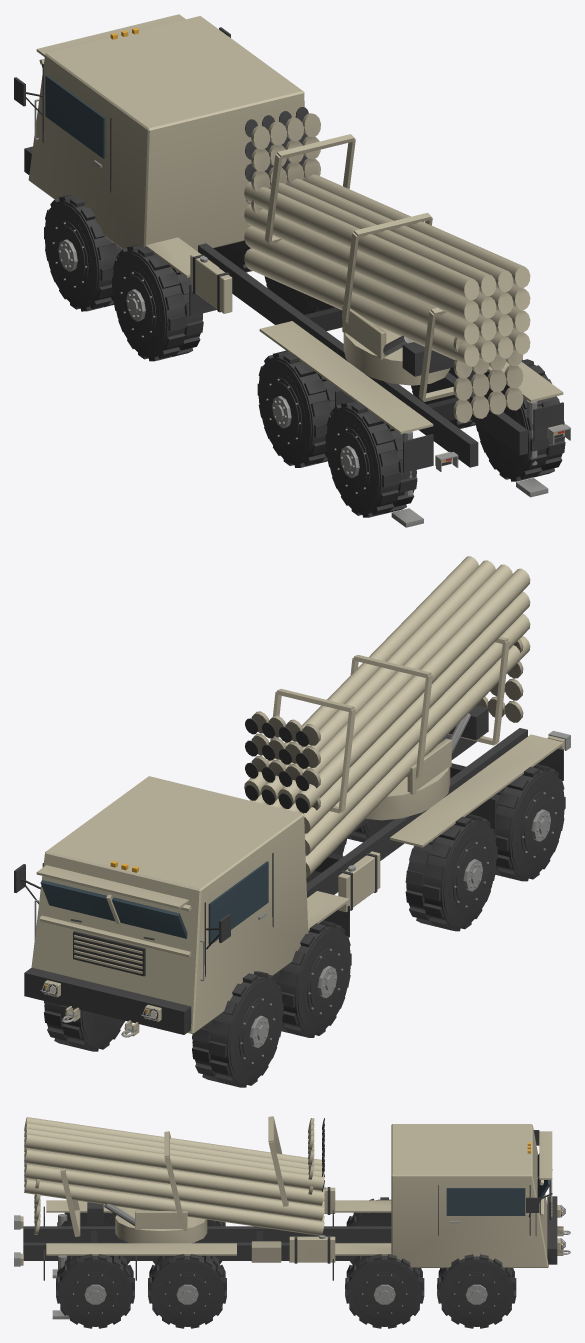
Rendered from rus_mlrs_urag.glb.
3 views of the same model, one above another, from view 1: azimuth 30°, elevation 25°; view 2: azimuth 150°, elevation 25°; view 3: azimuth 270°, elevation 25° (orthographic). The views are drawn at different scales.
Parts seen in each view (by area): view 1: body, barrel, wheel_2, wheel_6, wheel_4, wheel_0, turret, wheel_7, wheel_3; view 2: body, barrel, wheel_4, wheel_0, wheel_6, wheel_2, turret, wheel_1; view 3: body, barrel, wheel_5, wheel_7, wheel_3, wheel_1, turret, wheel_2, wheel_6.
Part boxes in pixels (x1,y1,x2,y2): body: [14, 14, 570, 527]; barrel: [244, 107, 530, 422]; wheel_2: [112, 245, 203, 361]; wheel_6: [325, 400, 417, 517]; wheel_4: [257, 350, 339, 467]; wheel_0: [44, 195, 122, 311]; turret: [342, 305, 450, 385]; wheel_7: [475, 359, 565, 481]; wheel_3: [264, 276, 321, 314]; body: [14, 728, 570, 1037]; barrel: [244, 556, 530, 877]; wheel_4: [405, 814, 497, 931]; wheel_0: [192, 971, 283, 1087]; wheel_6: [491, 764, 565, 881]; wheel_2: [273, 920, 351, 1037]; turret: [366, 713, 470, 820]; wheel_1: [44, 1001, 125, 1051]; body: [14, 1124, 570, 1319]; barrel: [24, 1116, 324, 1236]; wheel_5: [148, 1254, 226, 1328]; wheel_7: [56, 1254, 134, 1328]; wheel_3: [345, 1254, 424, 1328]; wheel_1: [437, 1254, 516, 1328]; turret: [104, 1203, 207, 1243]; wheel_2: [346, 1197, 391, 1264]; wheel_6: [57, 1212, 130, 1264].
Bounding box in the file's own units: 2.8 × 3.3 × 9.63.
